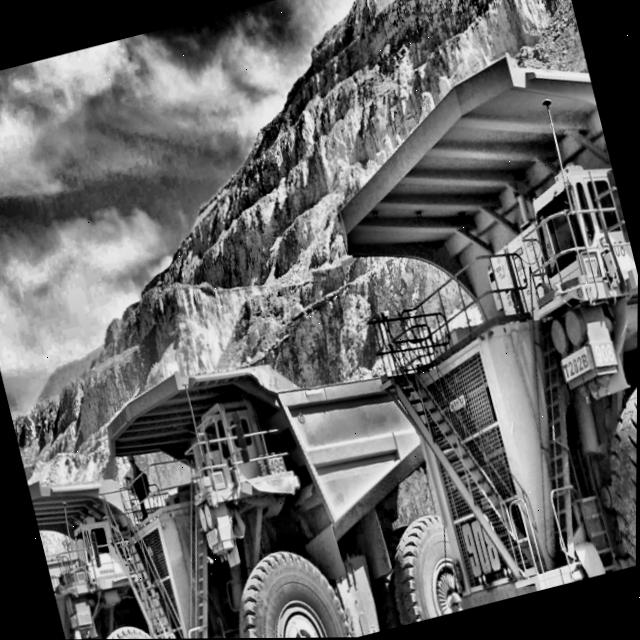dump_truck: (295, 28, 640, 620), (72, 299, 484, 640), (27, 453, 195, 640)
